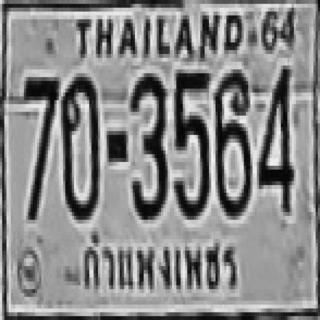N00: (61, 73, 98, 216)
N03: (128, 70, 166, 216)
N04: (257, 64, 292, 210)
N05: (172, 70, 209, 216)
N06: (213, 67, 250, 214)
N07: (23, 75, 58, 218)
P16: (74, 225, 240, 305)
